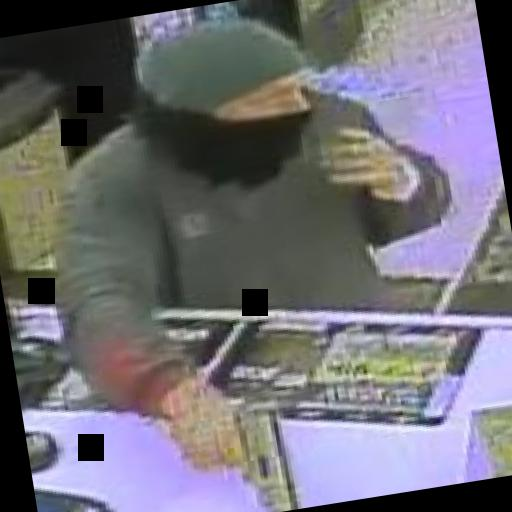Handgun: (167, 399, 301, 512)
